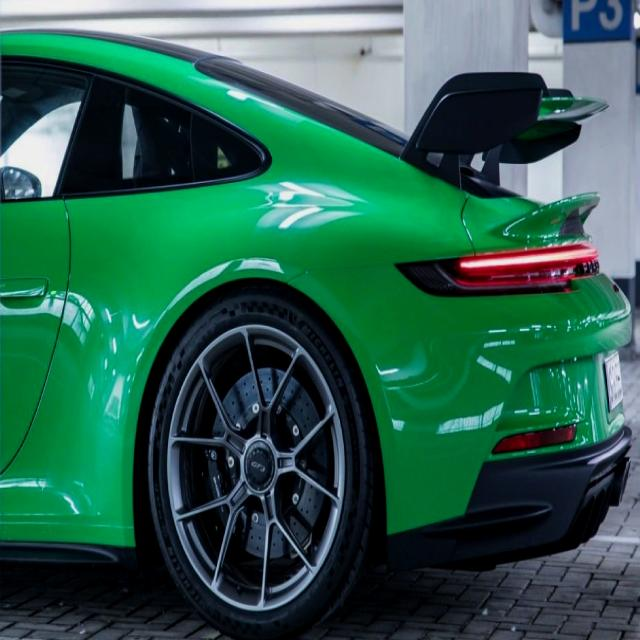green: (0, 28, 630, 626)
